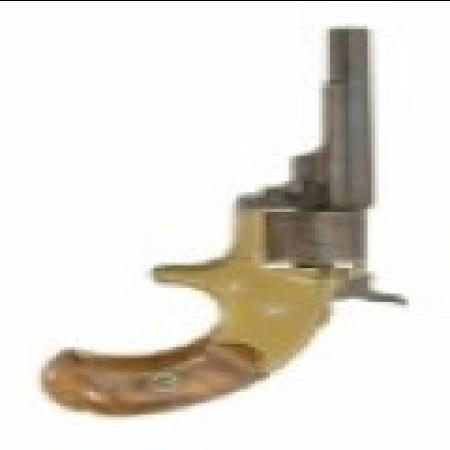Pistol: (45, 28, 413, 414)
